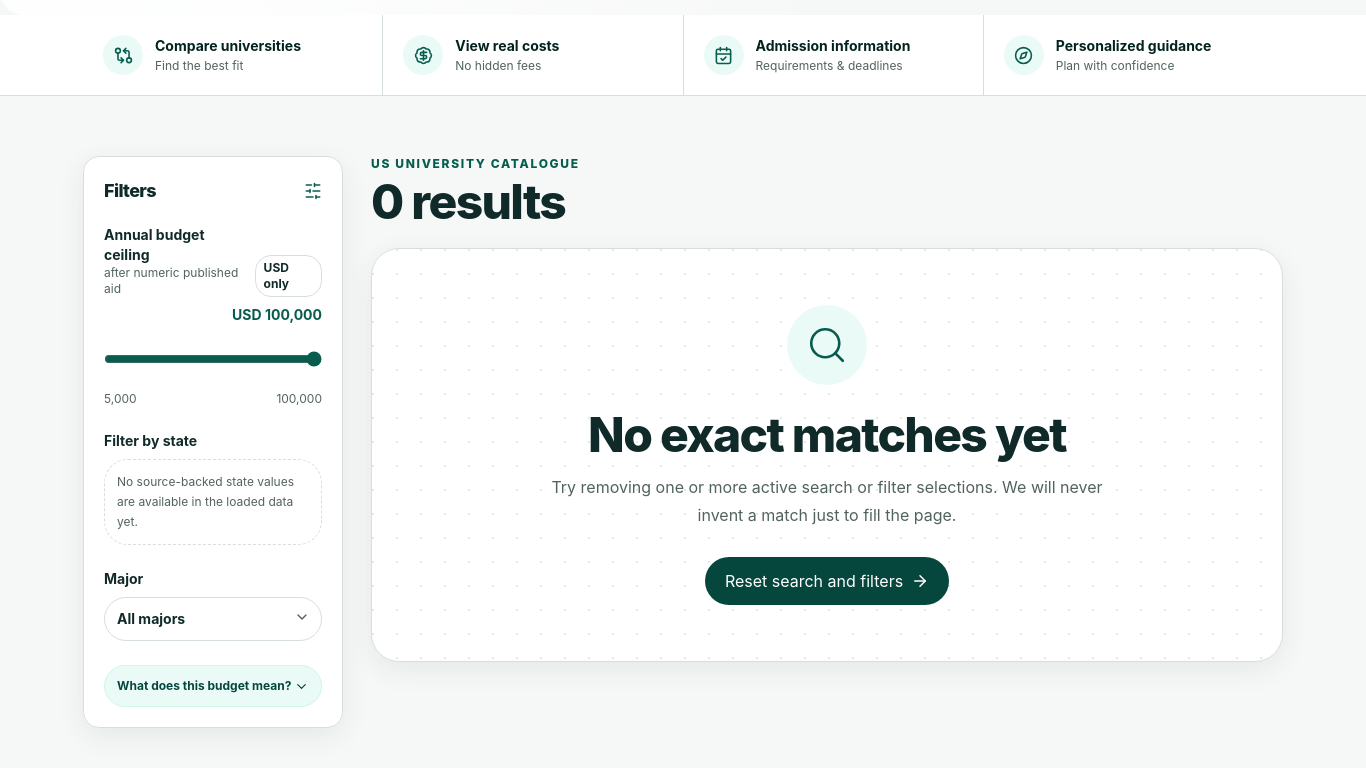
Test: SearchScreen result announcements › shows the selected major as an active search chip
(page scrolled)
Select "Engineering" in the dropdown labelled "Major" at [213, 619], box [104,597,322,641]
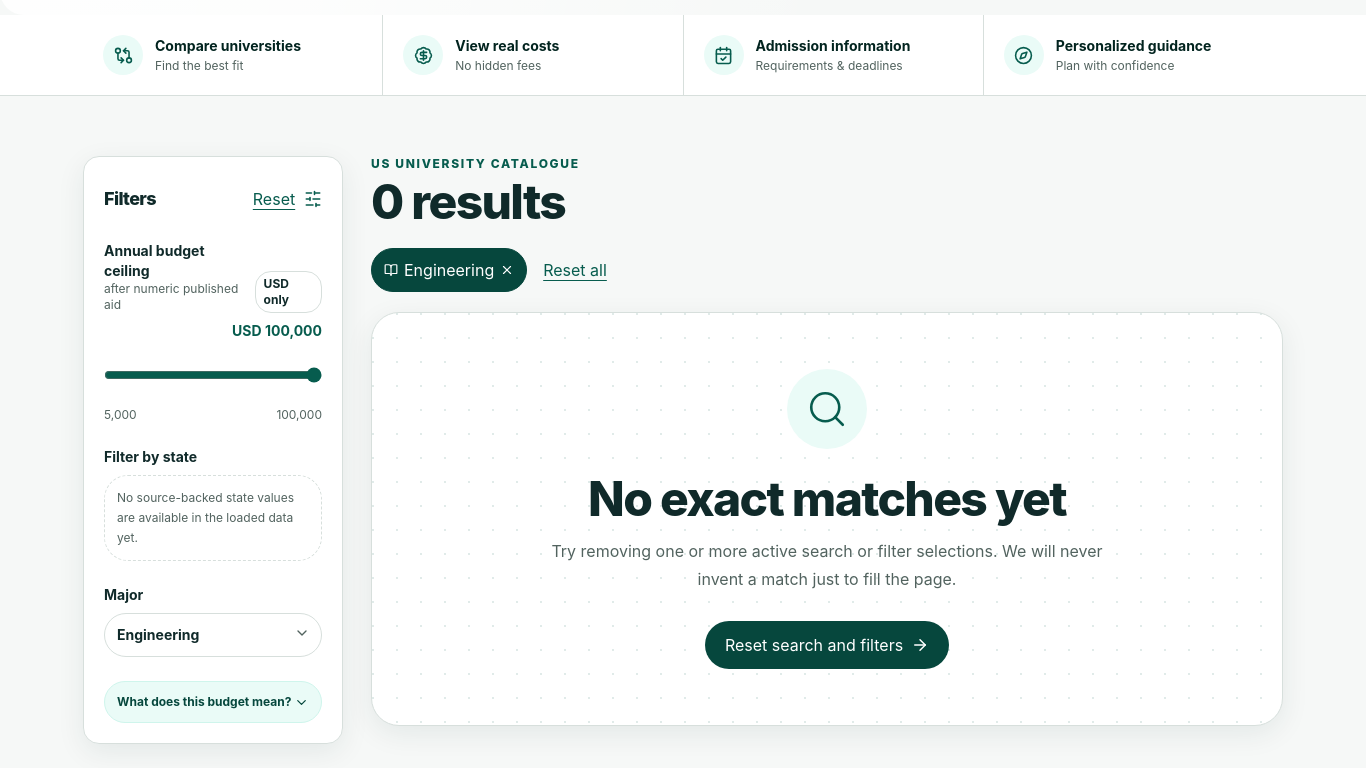
Check: the button with aria-label "Remove filter: Engineering" is shown, box [371,248,527,292]
